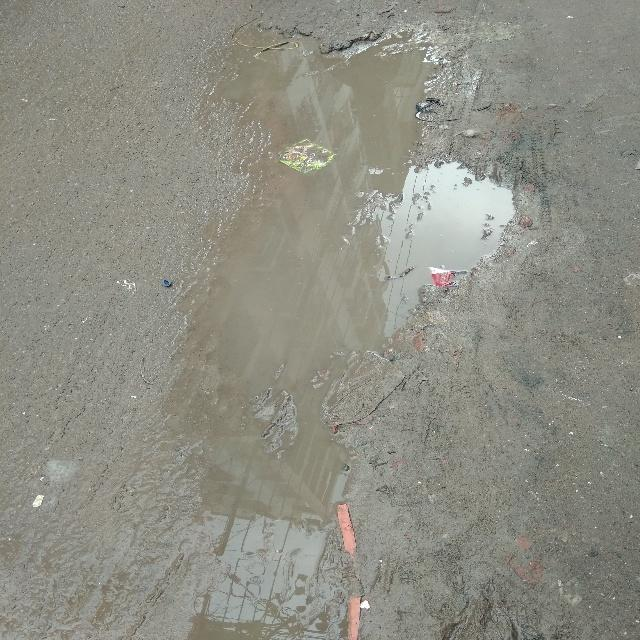Surface Erosion: (99, 0, 534, 493)
